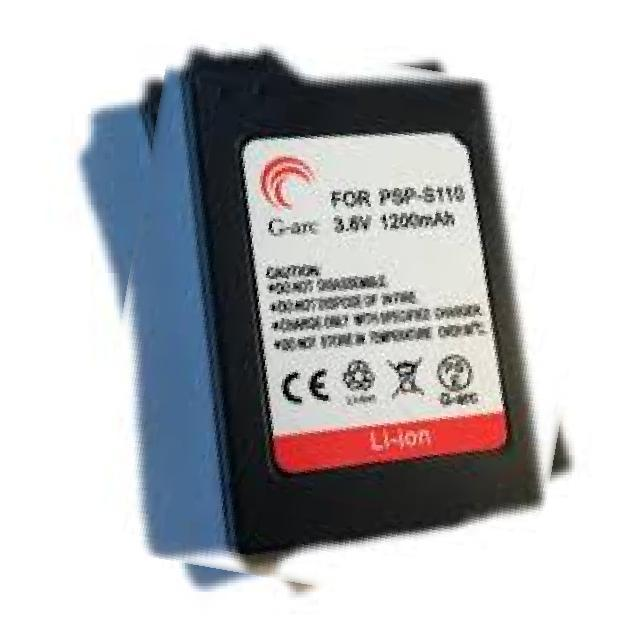Battery: (184, 42, 550, 570)
